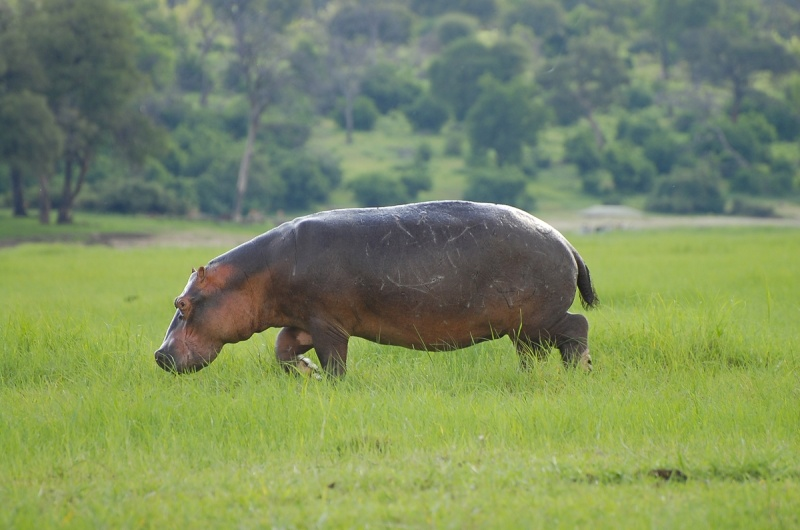hipopotamo: (151, 198, 604, 394)
